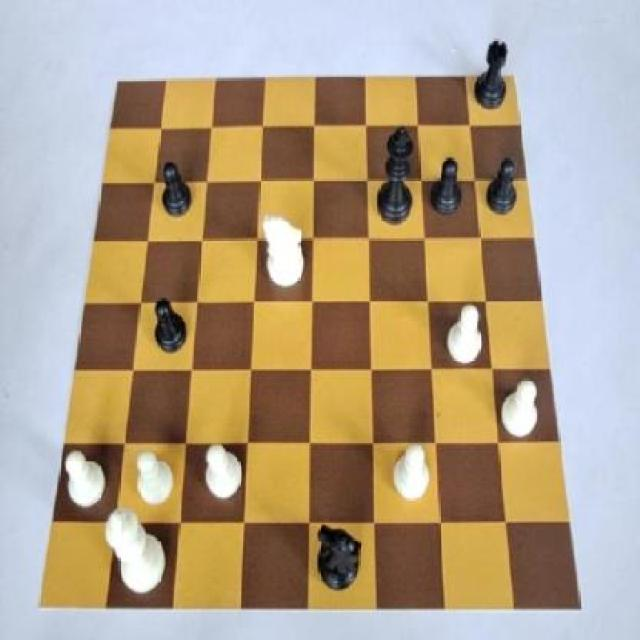black-bishop: (372, 120, 420, 234)
black-king: (315, 520, 371, 605)
black-knight: (146, 289, 194, 359), (151, 157, 198, 226), (426, 149, 465, 232), (485, 151, 522, 229)
black-queen: (471, 36, 516, 116)
white-bishop: (99, 504, 173, 600)
white-king: (260, 208, 309, 303)
white-knight: (60, 443, 106, 519), (197, 434, 245, 506), (496, 376, 548, 442), (440, 298, 488, 369), (389, 430, 435, 504), (131, 443, 177, 514)
